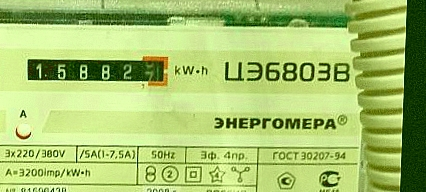1: (33, 60, 44, 79)
2: (121, 61, 133, 80)
5: (55, 62, 66, 79)
7: (143, 69, 154, 81)
8: (99, 62, 111, 80), (76, 62, 88, 79)
screen: (18, 47, 174, 93)
